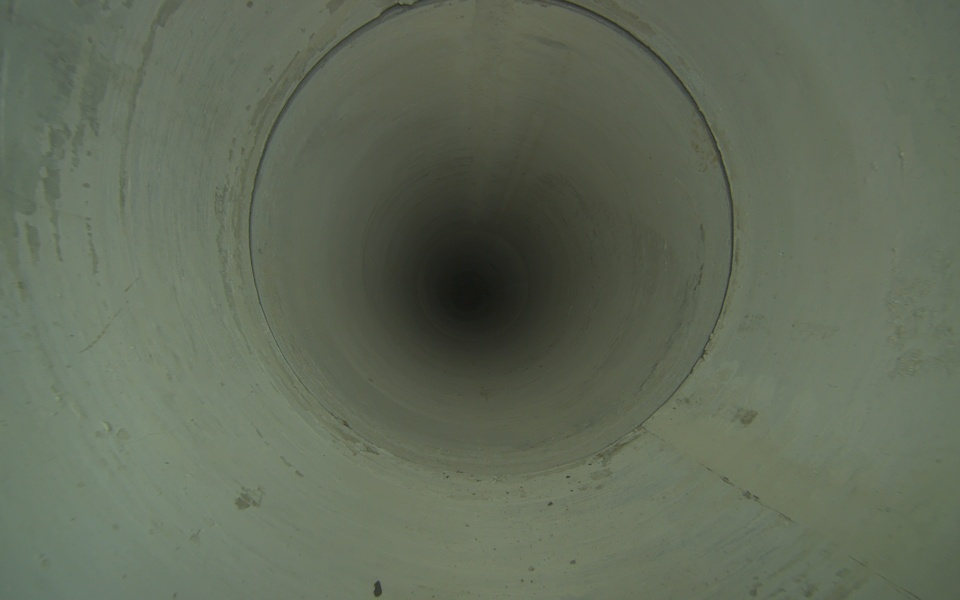circle1: (246, 0, 738, 480)
circle2: (447, 272, 495, 316)
